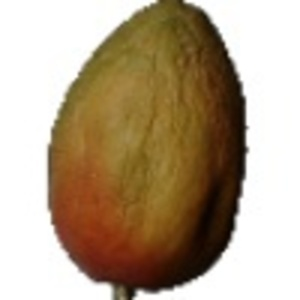mamão: (37, 3, 255, 287)
